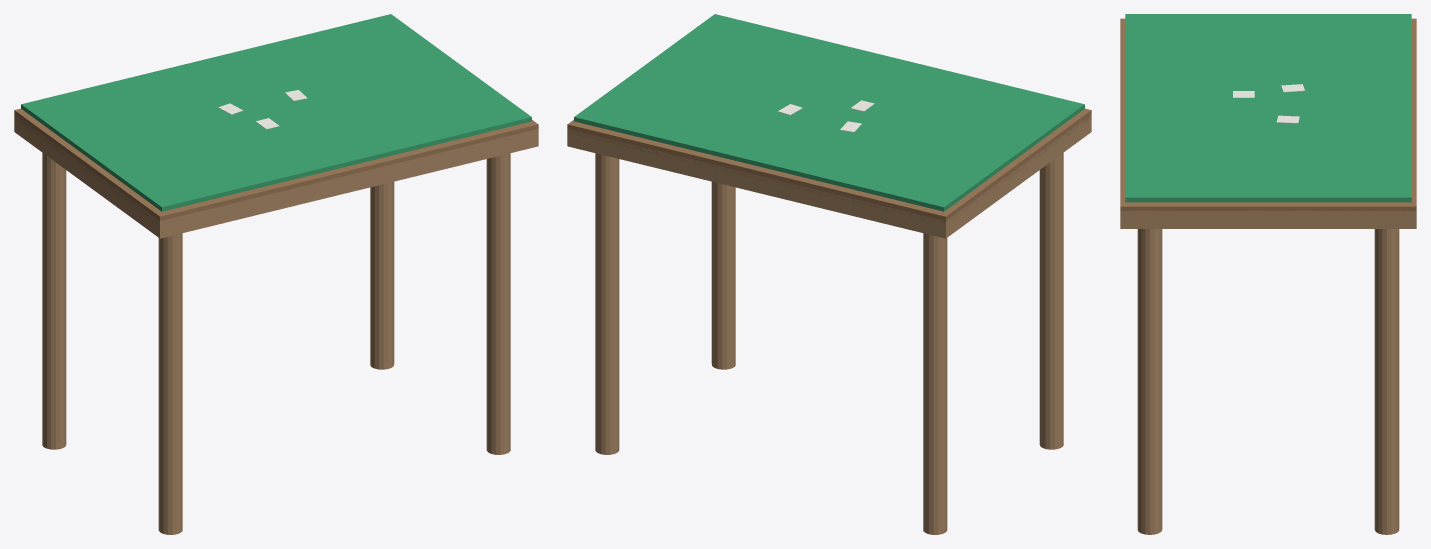
The model's file is prueba_mesa_zeta.glb.
3 renders of one model, left to right at view 1: azimuth 30°, elevation 25°; view 2: azimuth 150°, elevation 25°; view 3: azimuth 270°, elevation 25°, orthographic.
Visible parts, largest first — view 1: Tapete, Base, Pata_1, Pata_2, Pata_3, Borde, Pata_4; view 2: Tapete, Base, Pata_3, Pata_4, Pata_1, Borde, Pata_2; view 3: Tapete, Pata_2, Pata_4, Base, Borde.
Part boxes in pixels (x1,y1,x2,y2): Tapete: (21,14,531,211); Base: (14,115,538,238); Pata_1: (158,233,182,534); Pata_2: (486,153,510,454); Pata_3: (42,153,66,449); Borde: (14,108,538,224); Pata_4: (370,181,394,369); Tapete: (574,14,1084,211); Base: (567,115,1091,238); Pata_3: (923,233,947,534); Pata_4: (595,153,619,454); Pata_1: (1039,153,1063,449); Borde: (567,108,1091,224); Pata_2: (711,181,735,369); Tapete: (1125,14,1411,202); Pata_2: (1137,229,1162,534); Pata_4: (1374,229,1399,534); Base: (1120,211,1416,228); Borde: (1120,18,1416,214).
Size of the model in its own units: 0.9 by 0.7675 by 0.6.
